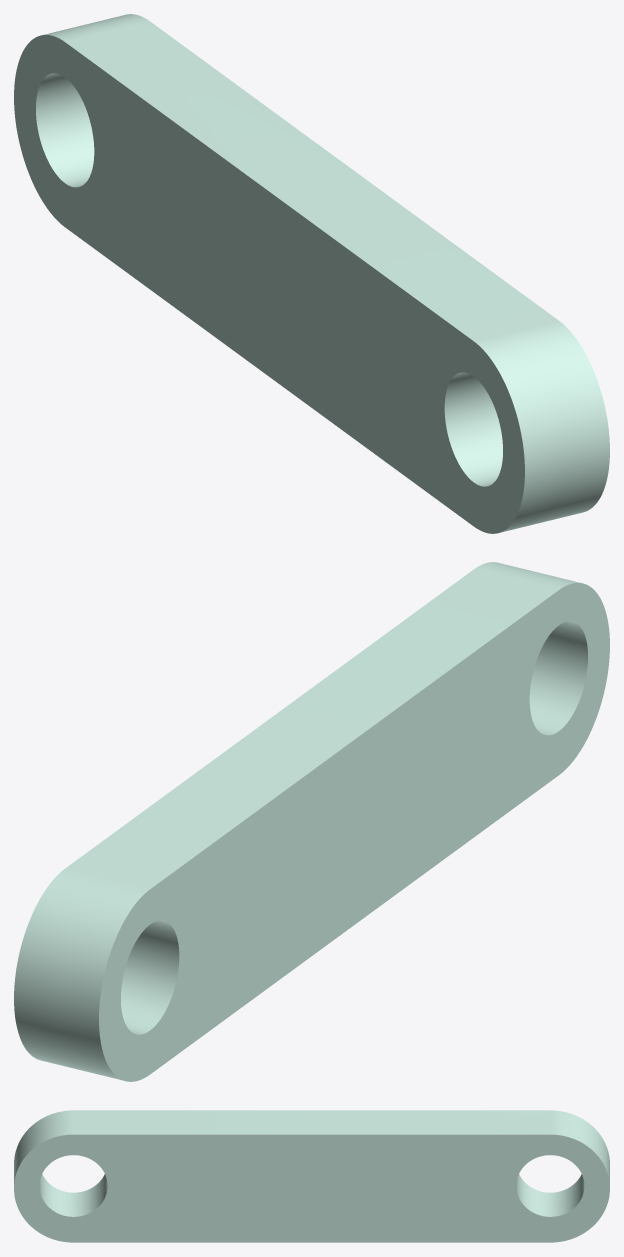
3 views of the same model, one above another, from view 1: azimuth 30°, elevation 25°; view 2: azimuth 150°, elevation 25°; view 3: azimuth 270°, elevation 25° (orthographic). The views are drawn at different scales.
Parts seen in each view (by area): view 1: Renderer Node; view 2: Renderer Node; view 3: Renderer Node.
Part boxes in pixels (x1=…): Renderer Node: x1=14, y1=14, x2=609, y2=533; Renderer Node: x1=14, y1=562, x2=609, y2=1081; Renderer Node: x1=14, y1=1110, x2=609, y2=1242.
Size of the model in its own units: 0.0938 by 0.1951 by 0.9757.
